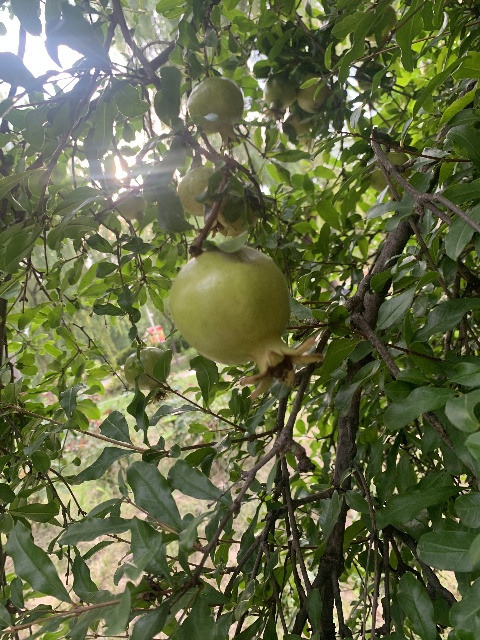mid-growth: (169, 247, 323, 399), (175, 165, 237, 239), (186, 77, 245, 149), (123, 346, 178, 407), (370, 150, 411, 201), (263, 75, 296, 121), (297, 72, 334, 113)
